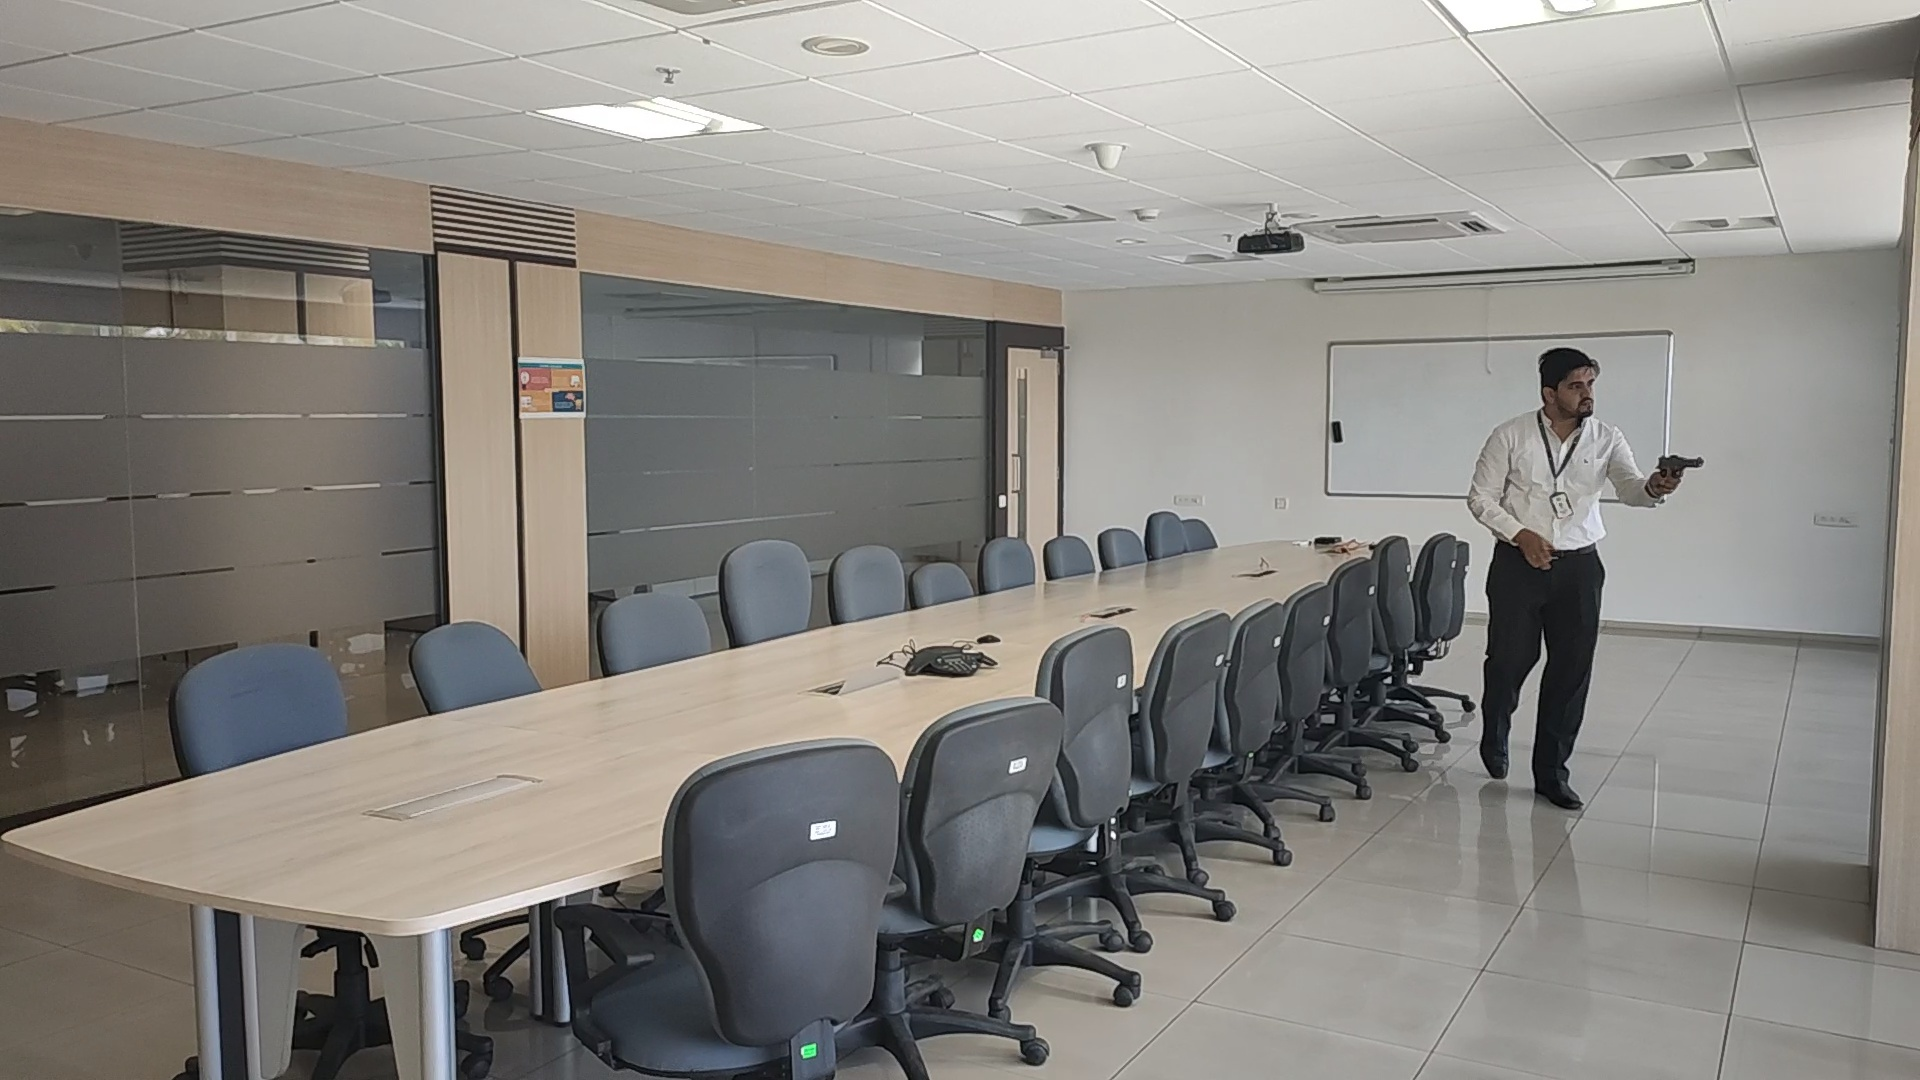knife: (1654, 454, 1705, 473)
